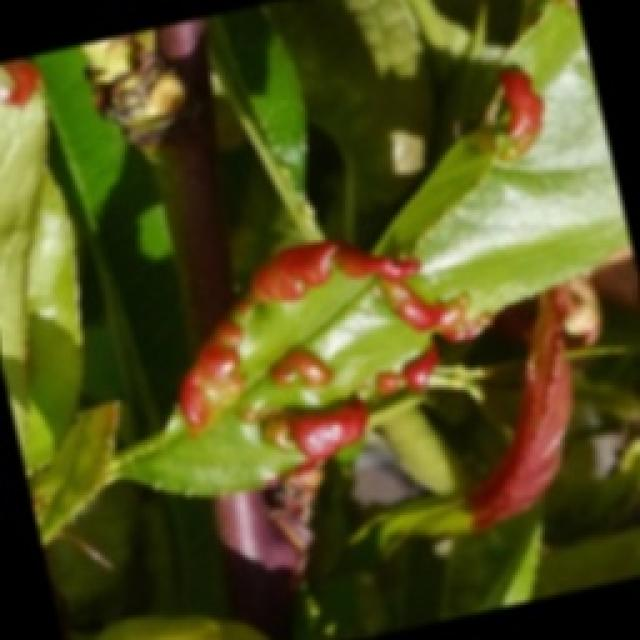peach_leaf_curl: (175, 235, 477, 477)
